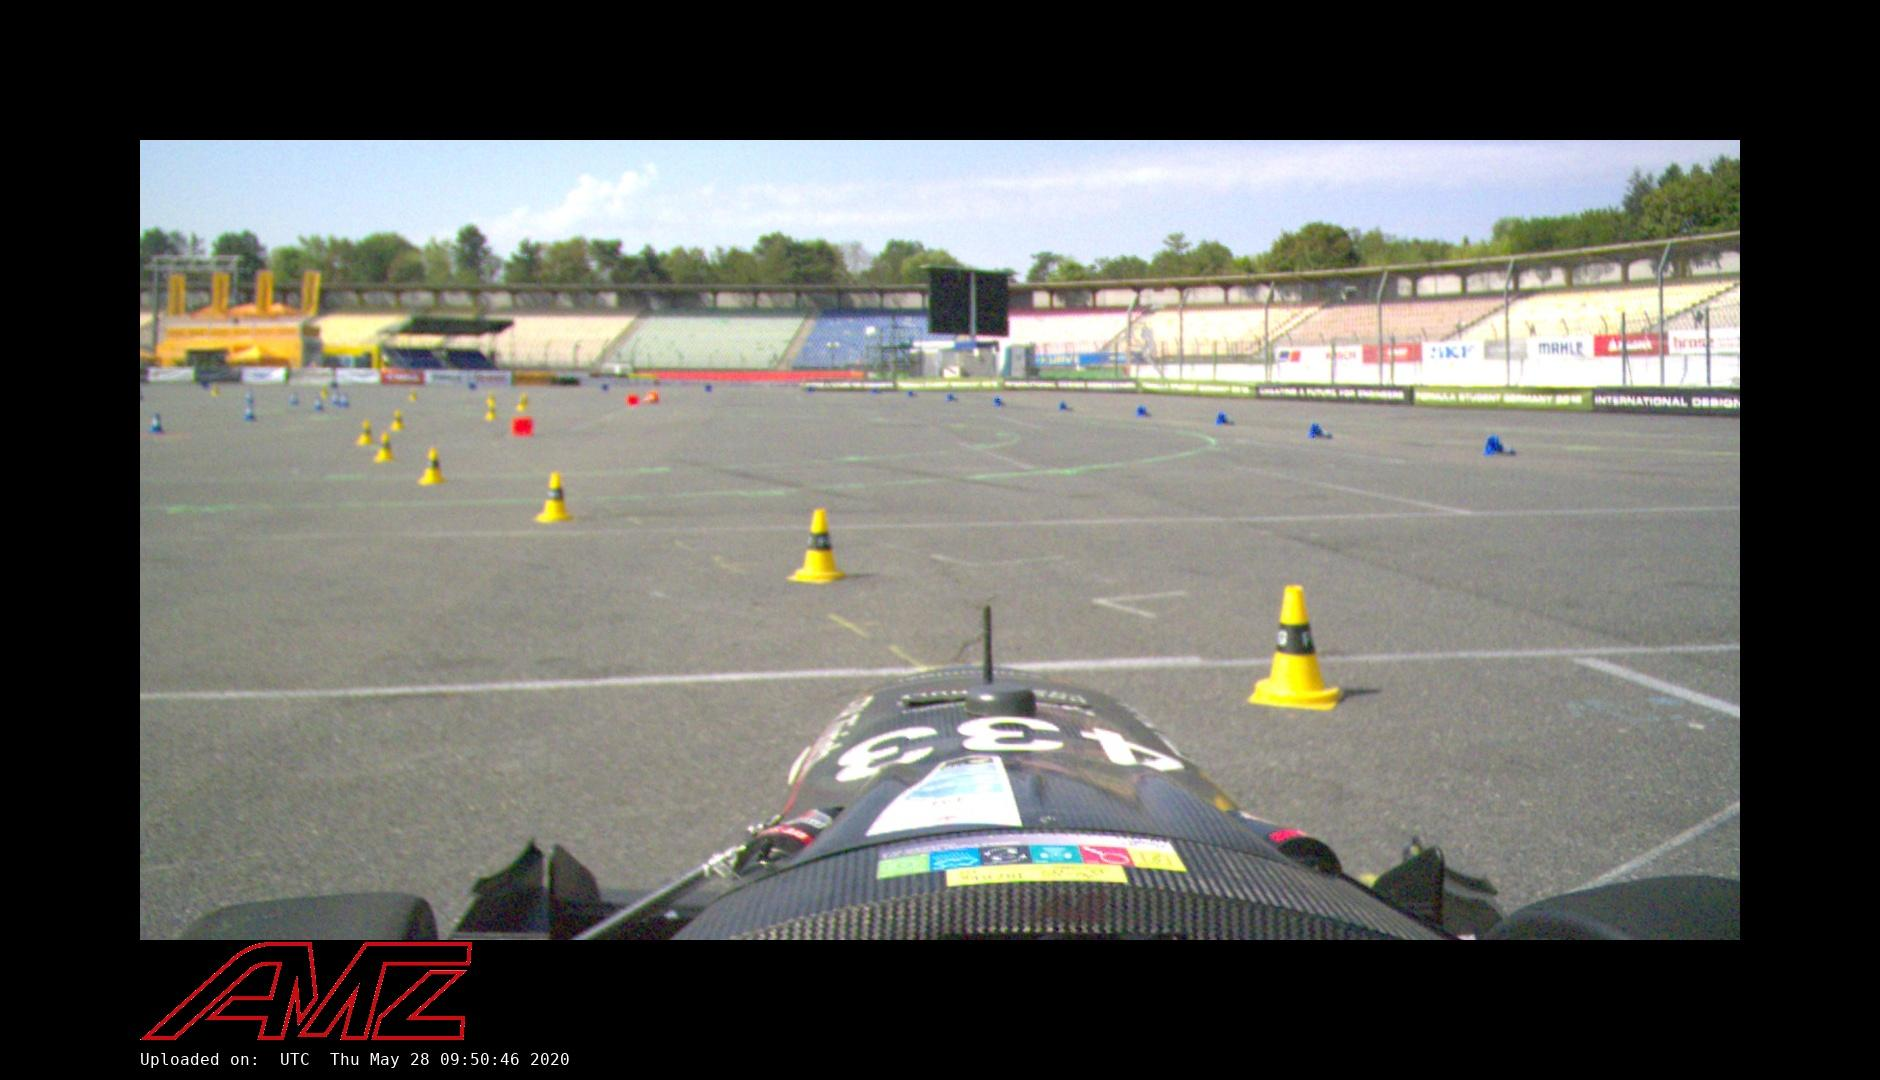blue_cone: (1482, 434, 1518, 459), (1305, 422, 1334, 442), (147, 412, 165, 434), (1214, 411, 1236, 426), (241, 404, 257, 421), (1135, 406, 1152, 419), (312, 397, 325, 412), (340, 391, 351, 408), (288, 391, 300, 406), (332, 391, 340, 406)
orange_cone: (511, 415, 535, 438), (640, 390, 659, 406), (626, 393, 642, 407)
yellow_cone: (1247, 581, 1345, 709), (786, 508, 850, 585), (535, 472, 575, 524), (416, 447, 447, 486), (373, 433, 396, 462), (355, 421, 374, 447), (390, 410, 405, 431), (483, 406, 498, 422), (485, 390, 497, 406), (516, 395, 526, 412), (520, 390, 529, 406), (408, 388, 417, 400)
